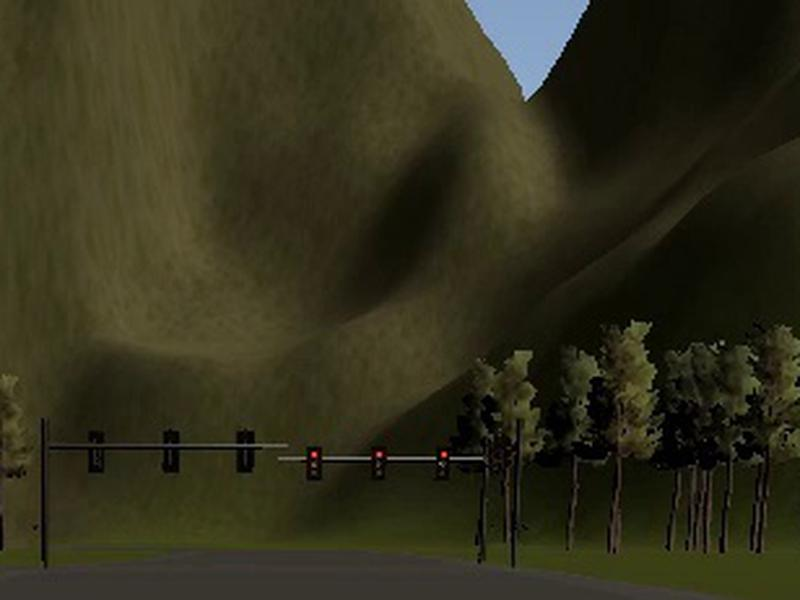Red: (307, 446, 322, 479), (373, 448, 386, 482), (437, 447, 450, 481)
